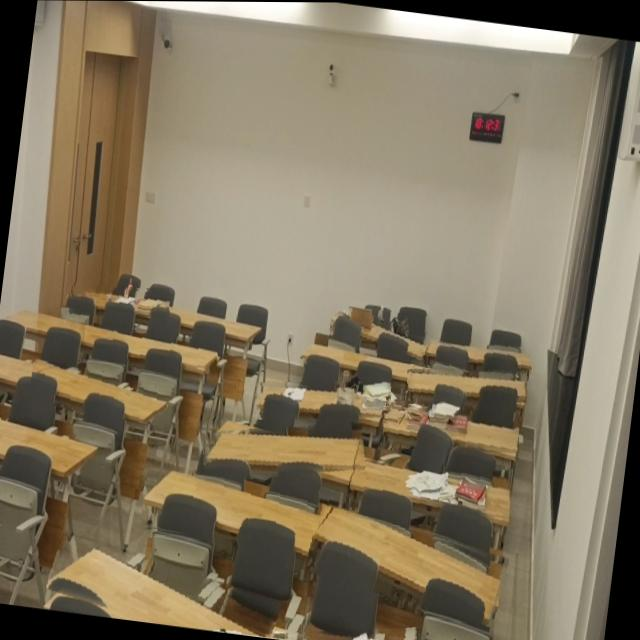Non-empty: (47, 544, 267, 637), (350, 458, 510, 517), (383, 405, 518, 451), (331, 306, 428, 358), (256, 382, 390, 417), (69, 286, 169, 316), (270, 633, 419, 640)
empty: (313, 508, 503, 625), (144, 471, 325, 554), (32, 364, 169, 423), (203, 432, 362, 470), (93, 331, 216, 368), (407, 369, 528, 400), (425, 341, 532, 374)
